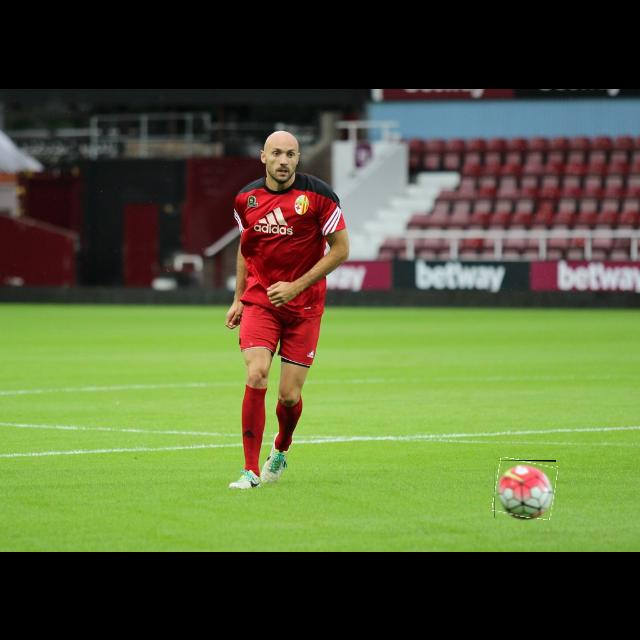Football: (494, 460, 556, 518)
